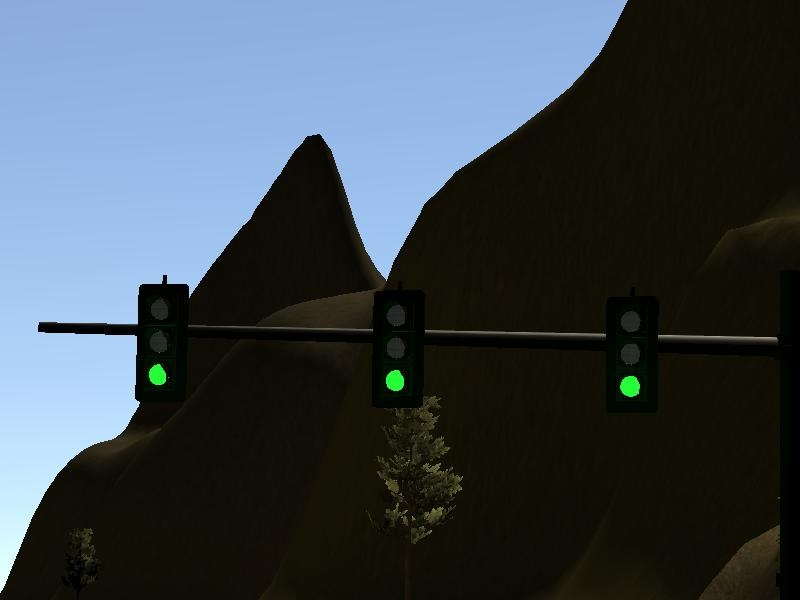green: (600, 283, 669, 411), (363, 285, 426, 410), (134, 276, 182, 409)
